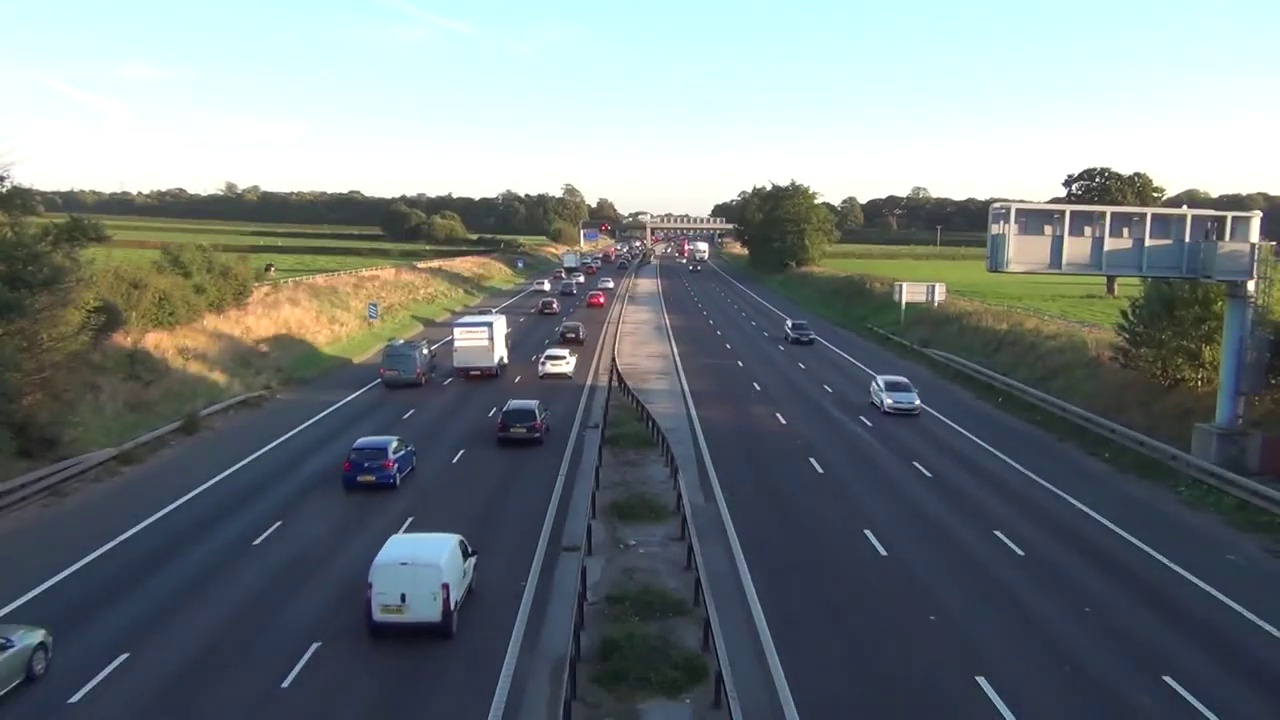bus: (364, 534, 480, 641), (0, 622, 56, 702), (341, 434, 418, 489), (496, 397, 552, 447), (380, 338, 437, 386), (867, 373, 922, 418), (537, 348, 579, 381), (783, 319, 817, 347), (557, 321, 588, 348), (537, 297, 560, 314), (585, 291, 605, 307), (559, 279, 577, 295), (596, 276, 615, 291), (533, 279, 552, 292), (570, 272, 584, 283), (554, 268, 566, 278)
car: (452, 314, 513, 377), (561, 252, 581, 271)
